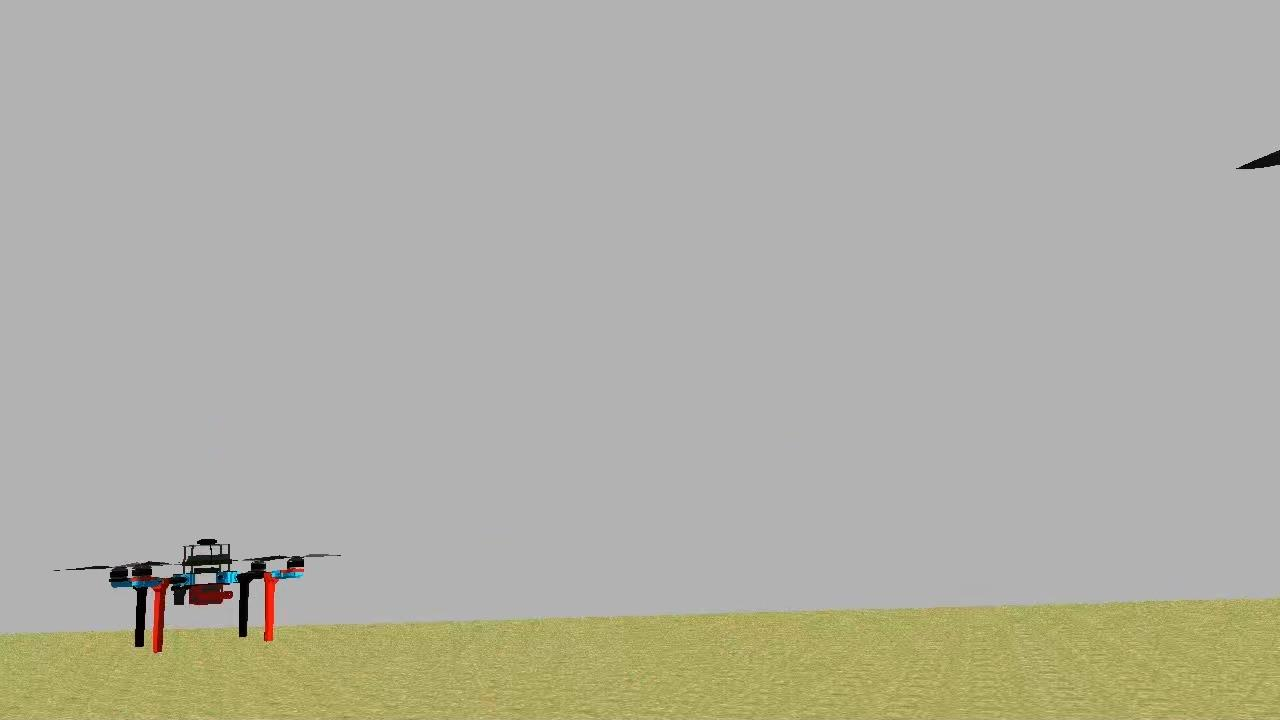UAV: (110, 530, 310, 652)
